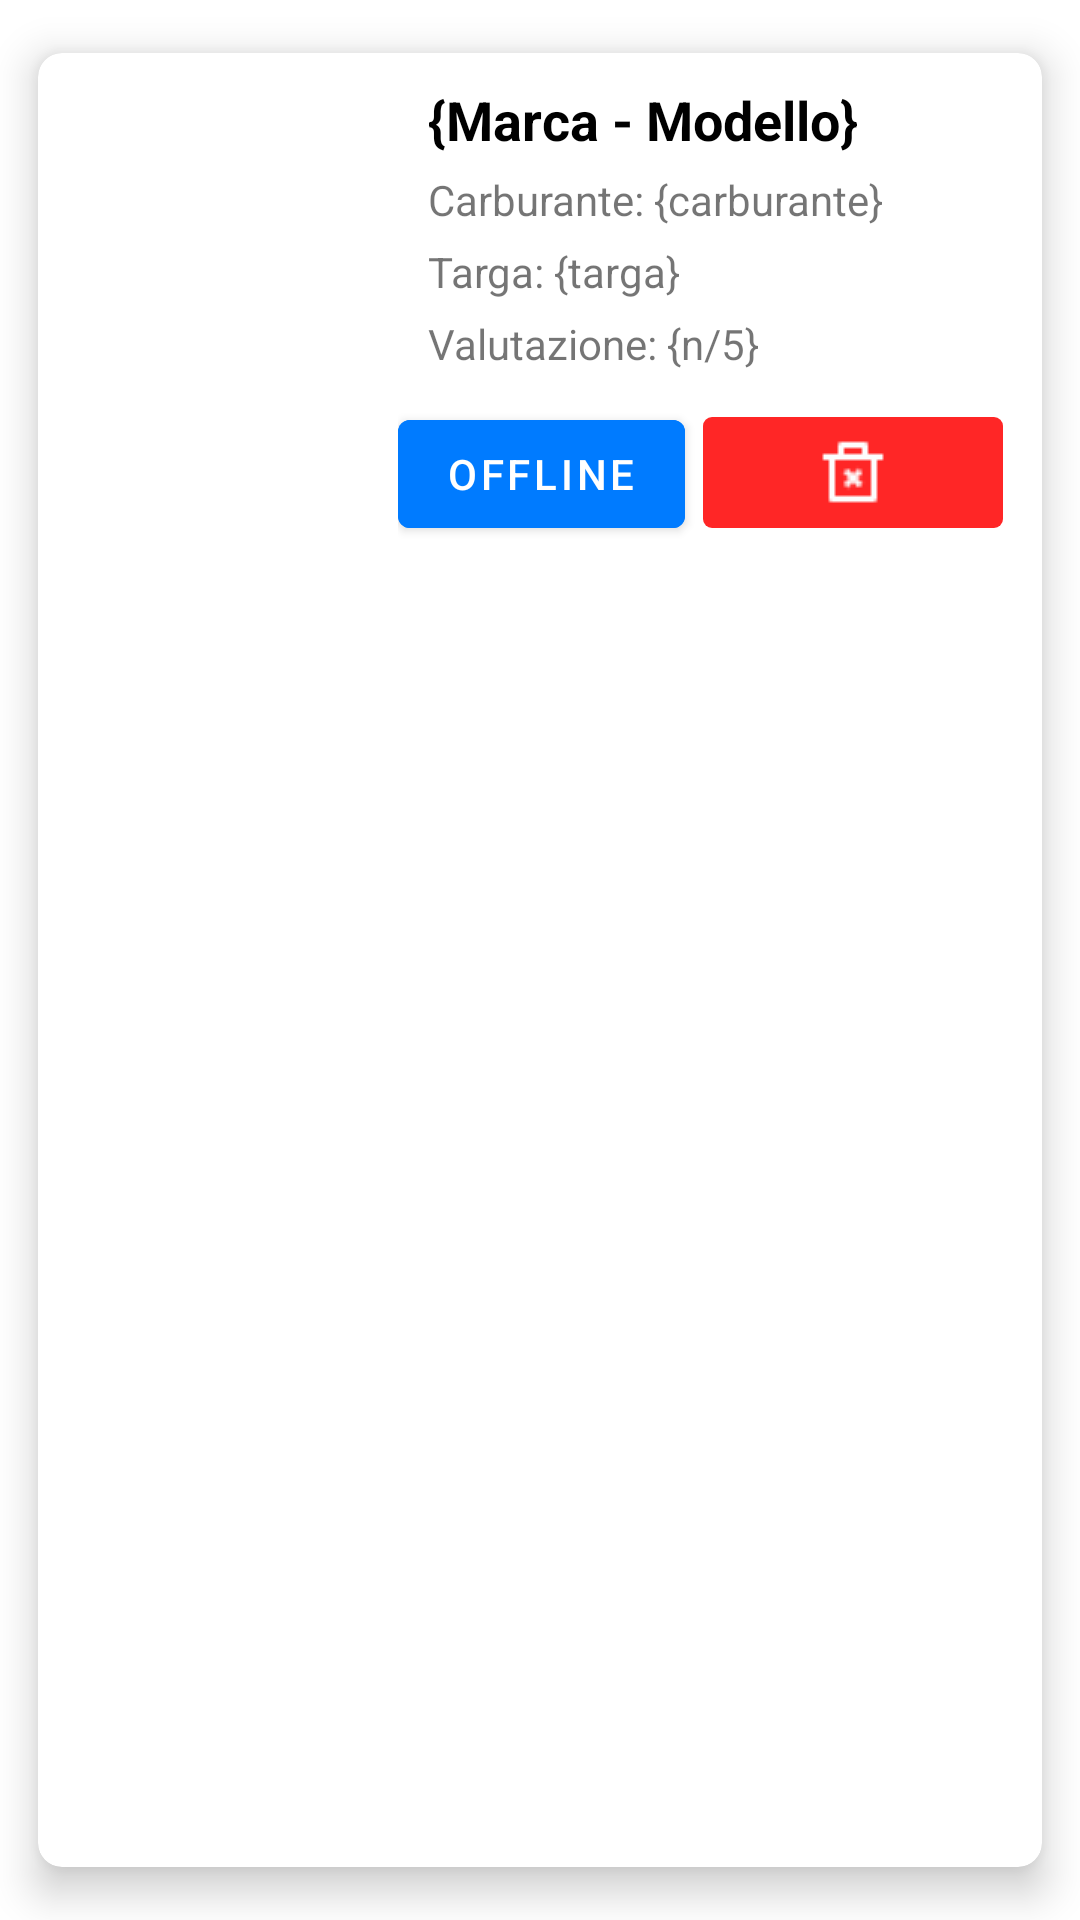

Named icons in this screenshot (1080*1920) and their centers, [x,y]:
delete: [853,472]
